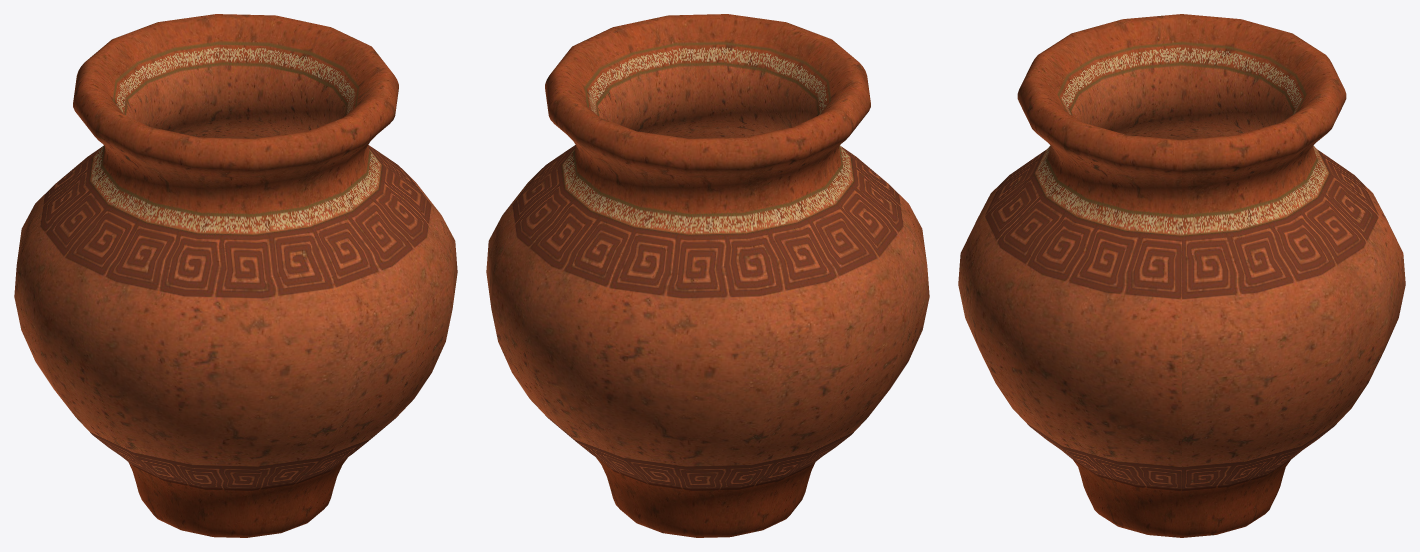
File: Pottery 1.FBX
The picture shows the model from 3 angles, left to right: view 1: azimuth 30°, elevation 25°; view 2: azimuth 150°, elevation 25°; view 3: azimuth 270°, elevation 25°; orthographic projection.
Parts seen in each view (by area): view 1: Pottery 1; view 2: Pottery 1; view 3: Pottery 1.
Part boxes in pixels (bbox=[...]): Pottery 1: bbox=[14, 14, 457, 537]; Pottery 1: bbox=[486, 14, 929, 537]; Pottery 1: bbox=[958, 14, 1405, 537].
Size of the model in its own units: 931 by 982 by 931.
1 material, 1 textured.
